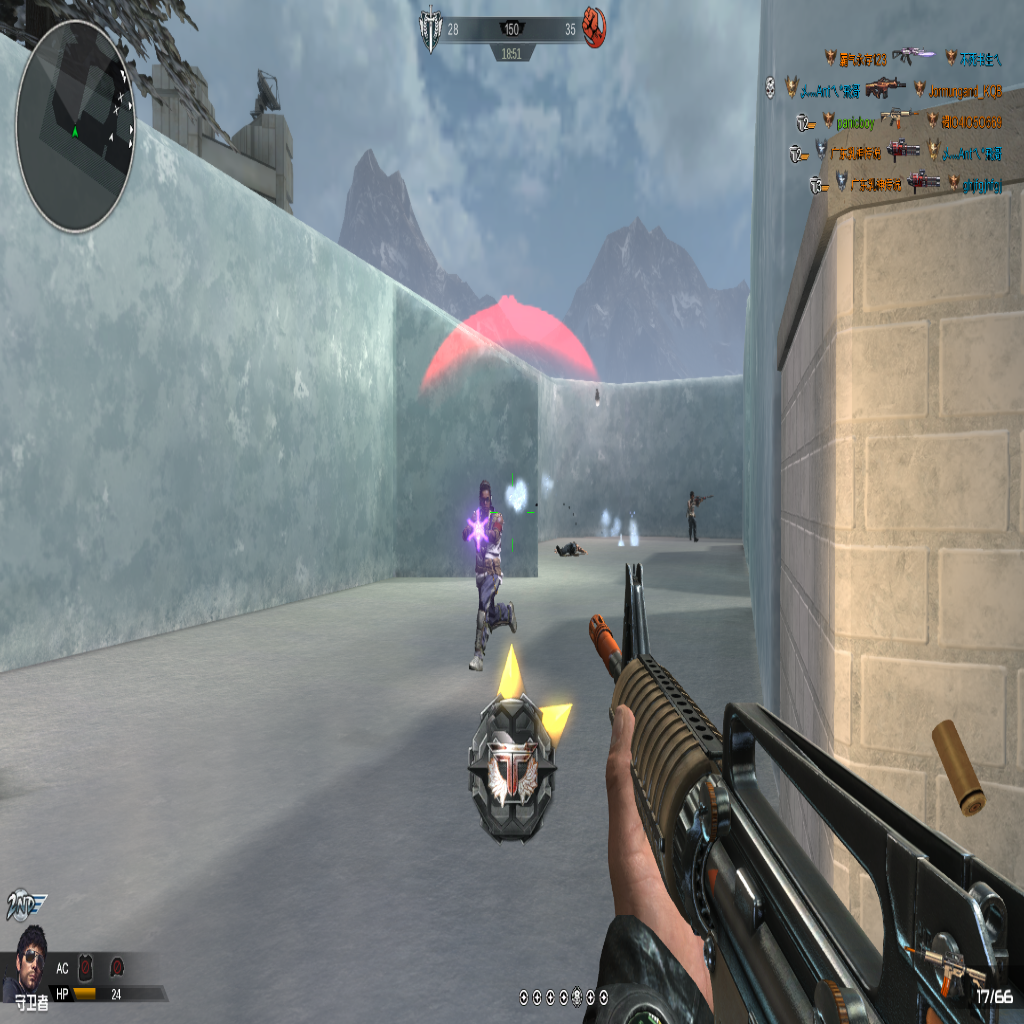tt: (463, 484, 514, 667), (686, 491, 701, 540)
